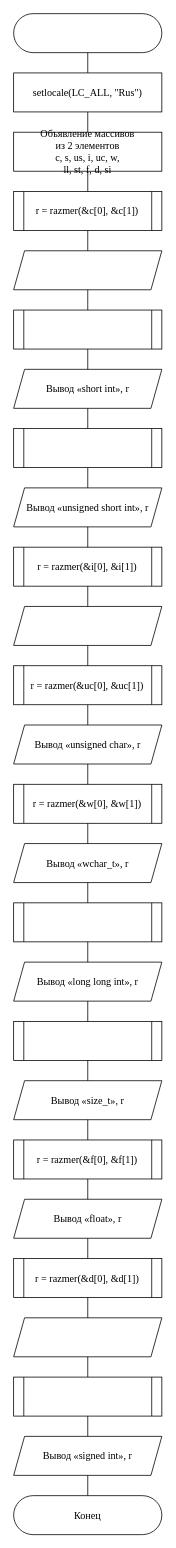
Some shapes in this 176 by 1548 pixel diagram are drawn without their labels. The centre of each missing label's shape, as x and y in pixels:
"r = razmer(&ll[0], &ll[1])" goes at (87,922).
"r = razmer(&s[0], &s[1])" goes at (87,329).
"r = razmer(&si[0], &si[1])" goes at (87,1396).
"r = razmer(&st[0], &st[1])" goes at (87,1040).
"r = razmer(&us[0], &us[1])" goes at (87,448).
"Вывод «char», r" goes at (87,270).
"Вывод «double», r" goes at (87,1337).
"Вывод «int», r" goes at (87,625).
"Начало" goes at (87,33).
